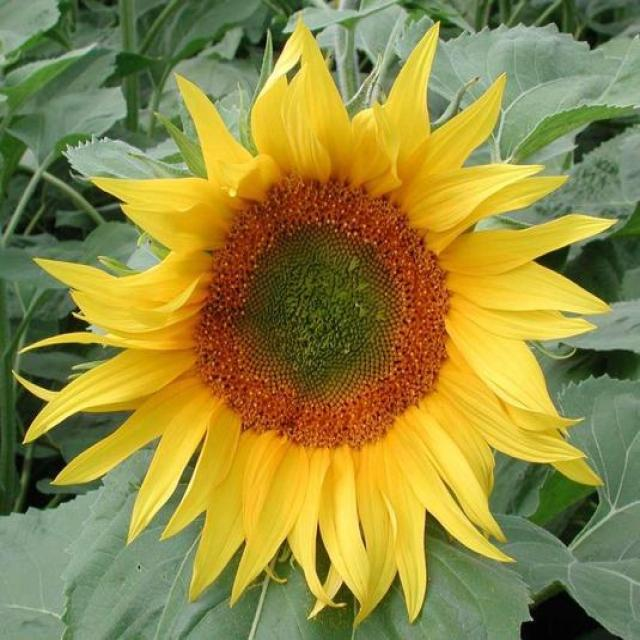sunflower: (15, 18, 626, 632), (4, 18, 5, 19)
